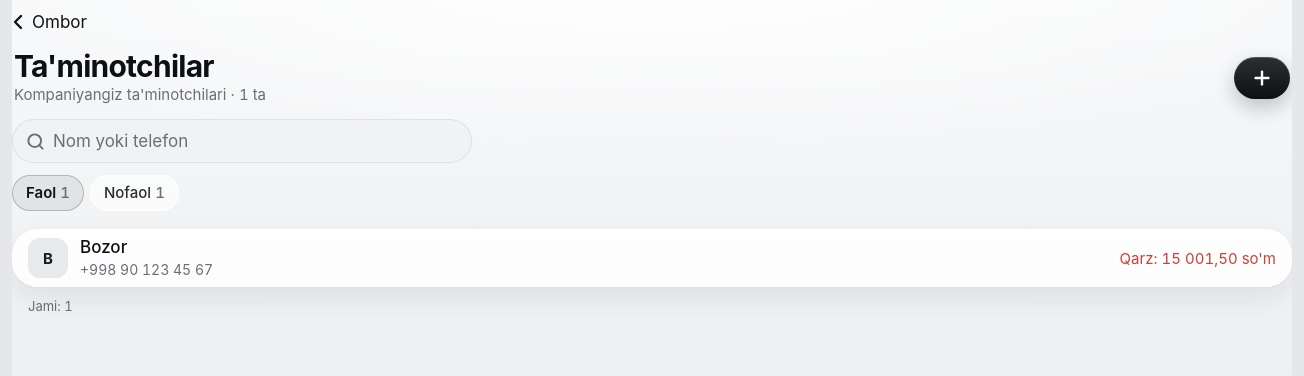
the owner's suppliers: a row each, the phone under the name, what is owed at its end; the chips say how many
The image size is (1304, 376).
Expected: the heading "Ta'minotchilar" is shown, 14,48 -> 214,84
Expected: the text "Kompaniyangiz ta'minotchilari · 1 ta" is shown, 14,85 -> 266,105
What coordinates should you click on to do the following:
click the radio button labelled "Nofaol 1"
I would click on:
 (134, 193)
Its box is 90,175 -> 179,211.
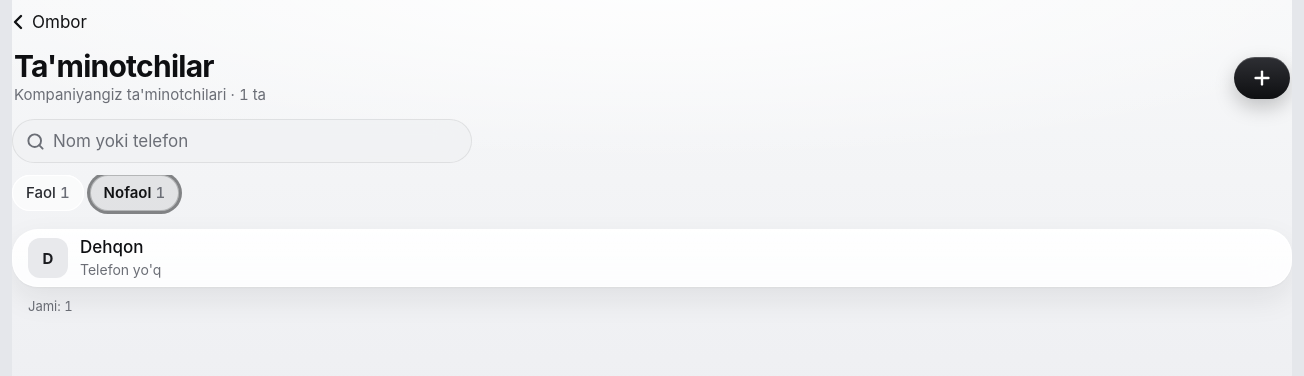
Now the text "Dehqon" is shown, box 80,237 -> 144,259
Now the link "Bozor" is gone
